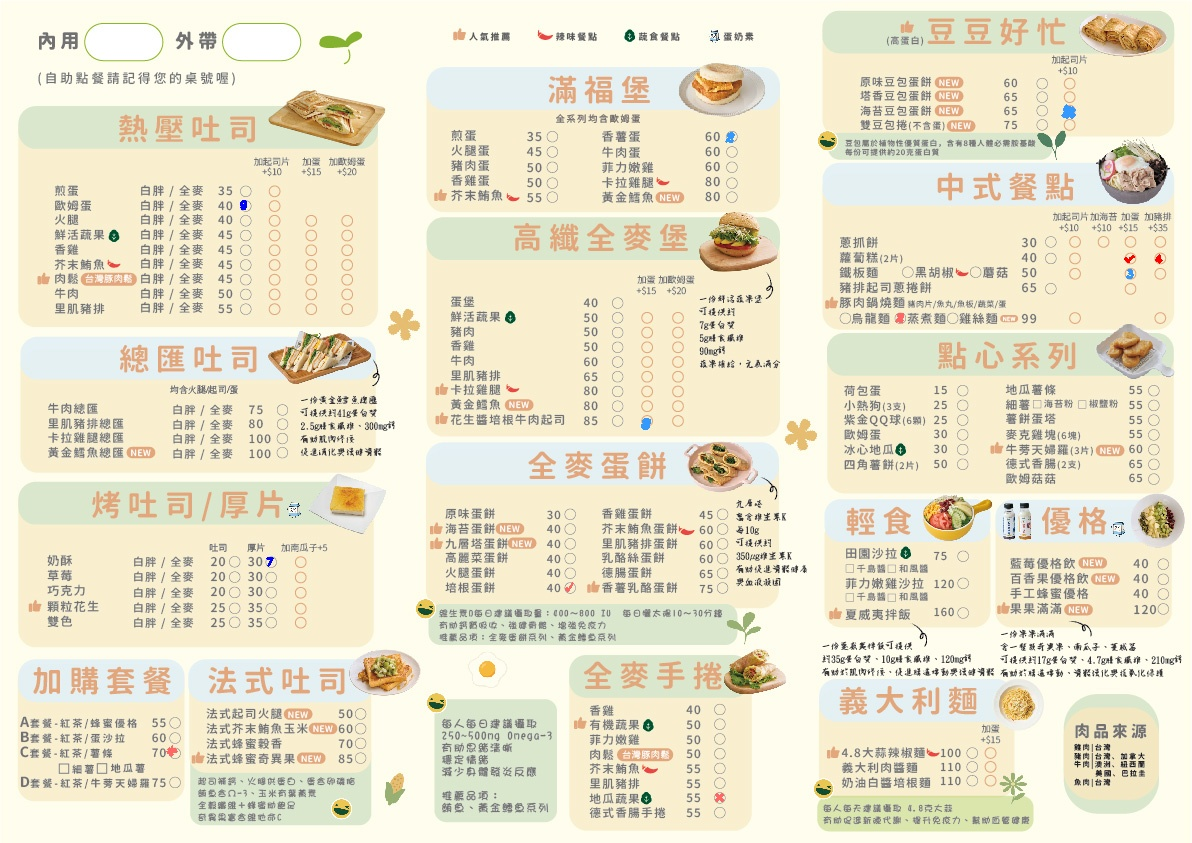marked_circle: (168, 748, 178, 759)
marked_hollow: (1064, 107, 1074, 118)
marked_number_2: (895, 312, 905, 323), (726, 132, 736, 143)
marked_number_3: (1125, 268, 1135, 279), (641, 416, 651, 427)
marked_number_4: (1154, 253, 1164, 264)
marked_number_7: (265, 556, 275, 567)
marked_number_9: (239, 199, 249, 210)
marked_tick: (1125, 253, 1135, 264), (564, 582, 574, 593)
marked_x: (714, 792, 724, 803)
